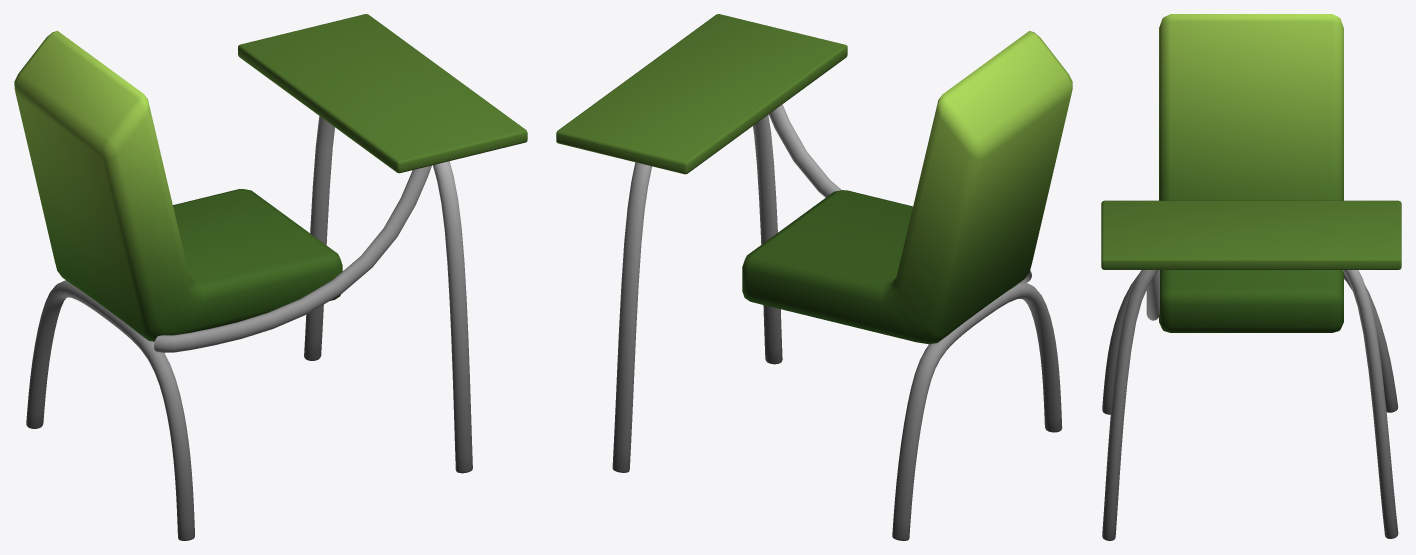
File: SM_desk2.fbx
3 views of the same model, side by side, from view 1: azimuth 30°, elevation 25°; view 2: azimuth 150°, elevation 25°; view 3: azimuth 270°, elevation 25° (orthographic). The views are drawn at different scales.
Parts seen in each view (by area): view 1: Plane.002; view 2: Plane.002; view 3: Plane.002.
Boxes of the visible parts, left/top/right/bottom form: Plane.002: left=14, top=14, right=527, bottom=540; Plane.002: left=556, top=14, right=1072, bottom=540; Plane.002: left=1101, top=14, right=1401, bottom=540.
Bounding box in the file's own units: 124 × 129 × 88.81.
